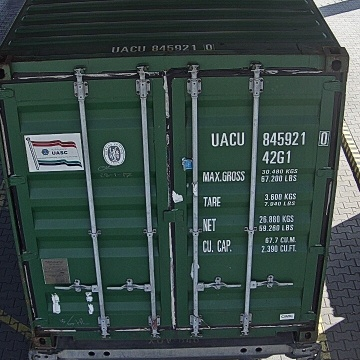serial_id: (211, 131, 329, 146)
